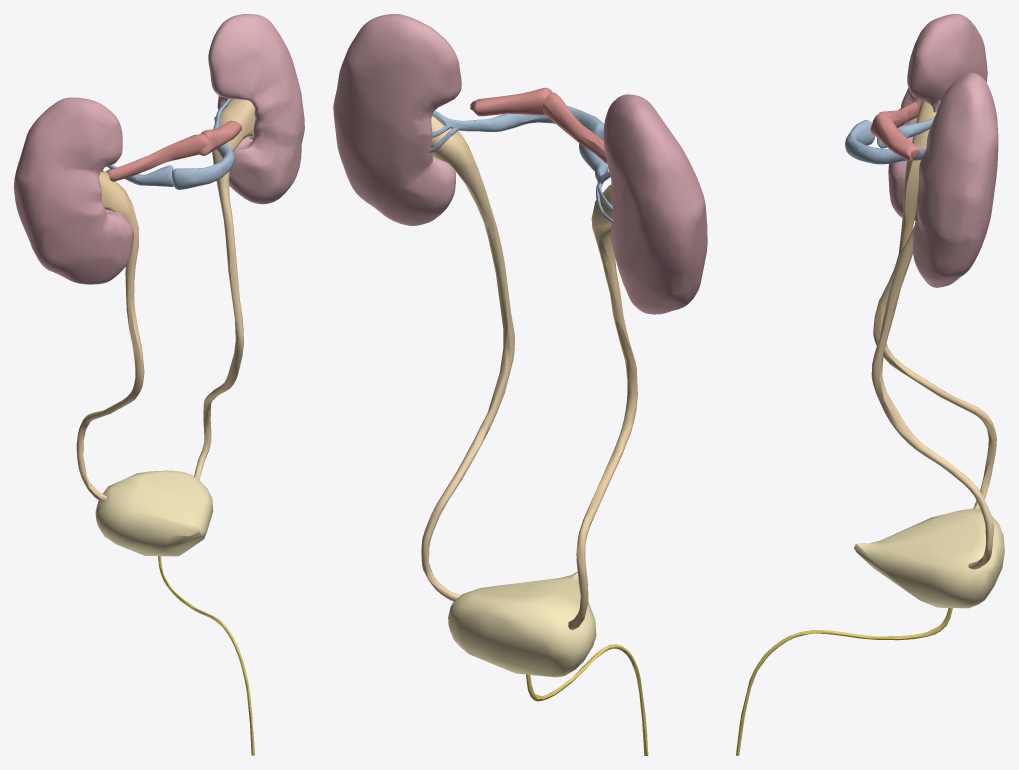
File: urinary.v1.glb
3 renders of one model, left to right at view 1: azimuth 30°, elevation 25°; view 2: azimuth 150°, elevation 25°; view 3: azimuth 270°, elevation 25°, orthographic. The views are drawn at different scales.
Parts seen in each view (by area): view 1: right_kidney, left_kidney, urinary_bladder, left_ureter, right_ureter, right_renal_artery, left_renal_vein, urethra, left_renal_artery, right_renal_vein; view 2: left_kidney, right_kidney, urinary_bladder, left_ureter, right_ureter, left_renal_vein, left_renal_artery, right_renal_artery, urethra, right_renal_vein; view 3: left_kidney, urinary_bladder, right_kidney, right_ureter, left_ureter, left_renal_vein, urethra, left_renal_artery, right_renal_artery, right_renal_vein.
Boxes of the visible parts, x1,y1,x2,y2 form: right_kidney: (14,97,133,284); left_kidney: (208,14,304,204); urinary_bladder: (95,470,213,556); left_ureter: (194,99,255,479); right_ureter: (76,171,144,501); right_renal_artery: (108,134,212,181); left_renal_vein: (172,98,234,189); urethra: (158,556,254,755); left_renal_artery: (199,120,241,155); right_renal_vein: (105,164,173,186); left_kidney: (333,14,461,225); right_kidney: (603,94,707,314); urinary_bladder: (448,571,596,677); left_ureter: (421,116,514,601); right_ureter: (568,185,637,629); left_renal_vein: (429,106,603,152); left_renal_artery: (470,87,552,116); right_renal_artery: (543,92,607,164); urethra: (526,644,648,755); right_renal_vein: (579,143,613,223); left_kidney: (913,72,998,287); urinary_bladder: (854,508,1004,608); right_kidney: (888,14,987,220); right_ureter: (873,100,996,510); left_ureter: (871,226,993,569); left_renal_vein: (845,120,925,164); urethra: (736,608,952,755); left_renal_artery: (870,113,919,161); right_renal_artery: (872,102,918,128); right_renal_vein: (877,100,940,148).
Bounding box in the file's own units: 0.178 × 0.3819 × 0.1276.
